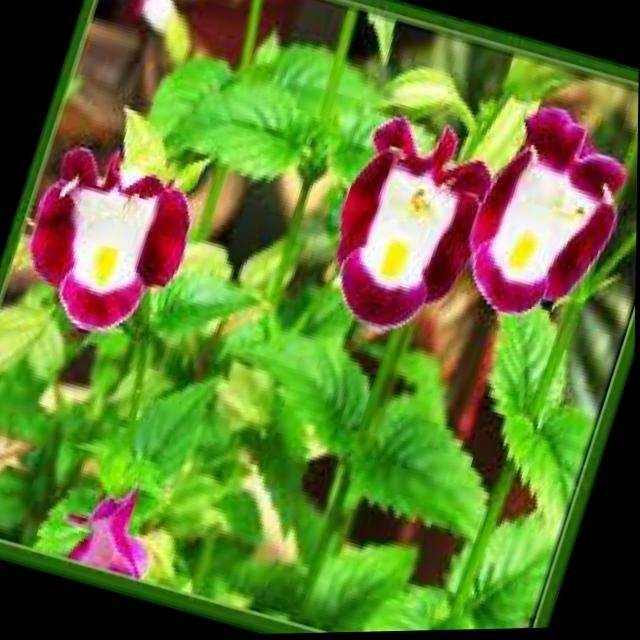Flower: (308, 107, 512, 368), (449, 98, 639, 354), (8, 132, 209, 349), (46, 455, 179, 576)
